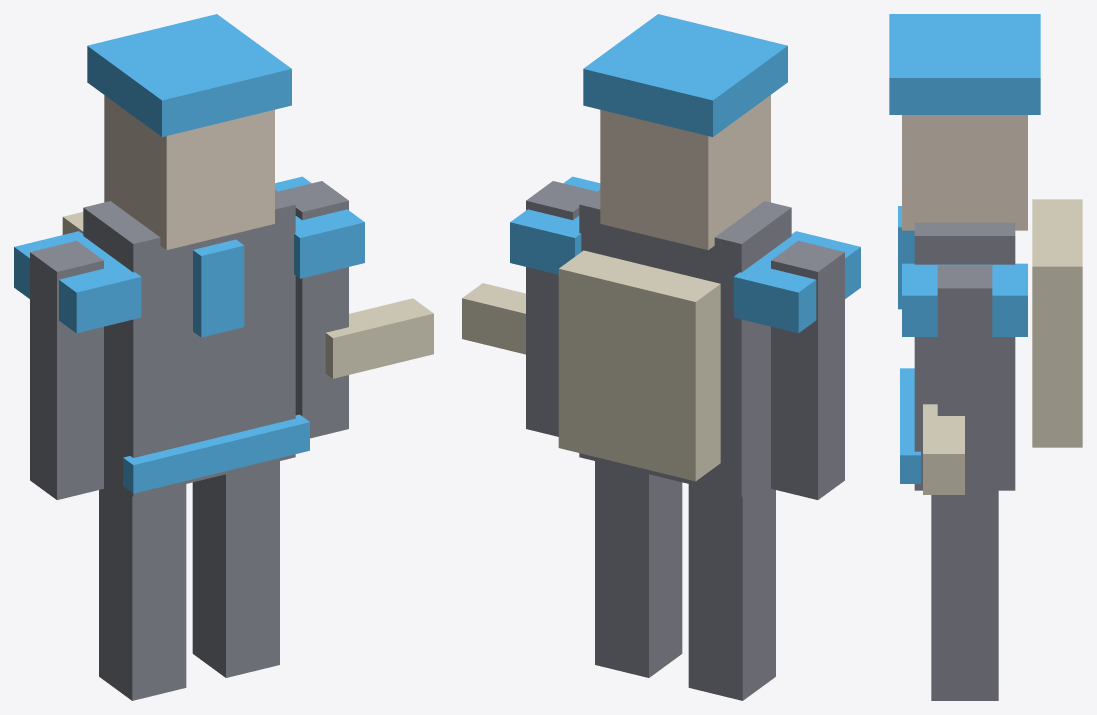
Rendered from 09_varren_trenchmark_archivist_from_climber.glb.
The picture shows the model from 3 angles, left to right: view 1: azimuth 30°, elevation 25°; view 2: azimuth 150°, elevation 25°; view 3: azimuth 270°, elevation 25°; orthographic projection.
Visible parts, largest first — view 1: Varren Trenchmark, Archivist from Climber; view 2: Varren Trenchmark, Archivist from Climber; view 3: Varren Trenchmark, Archivist from Climber.
Boxes of the visible parts, left/top/right/bottom form: Varren Trenchmark, Archivist from Climber: left=14, top=14, right=433, bottom=700; Varren Trenchmark, Archivist from Climber: left=462, top=14, right=860, bottom=700; Varren Trenchmark, Archivist from Climber: left=889, top=14, right=1082, bottom=700.
Size of the model in its own units: 1.08 by 1.71 by 0.4851.
